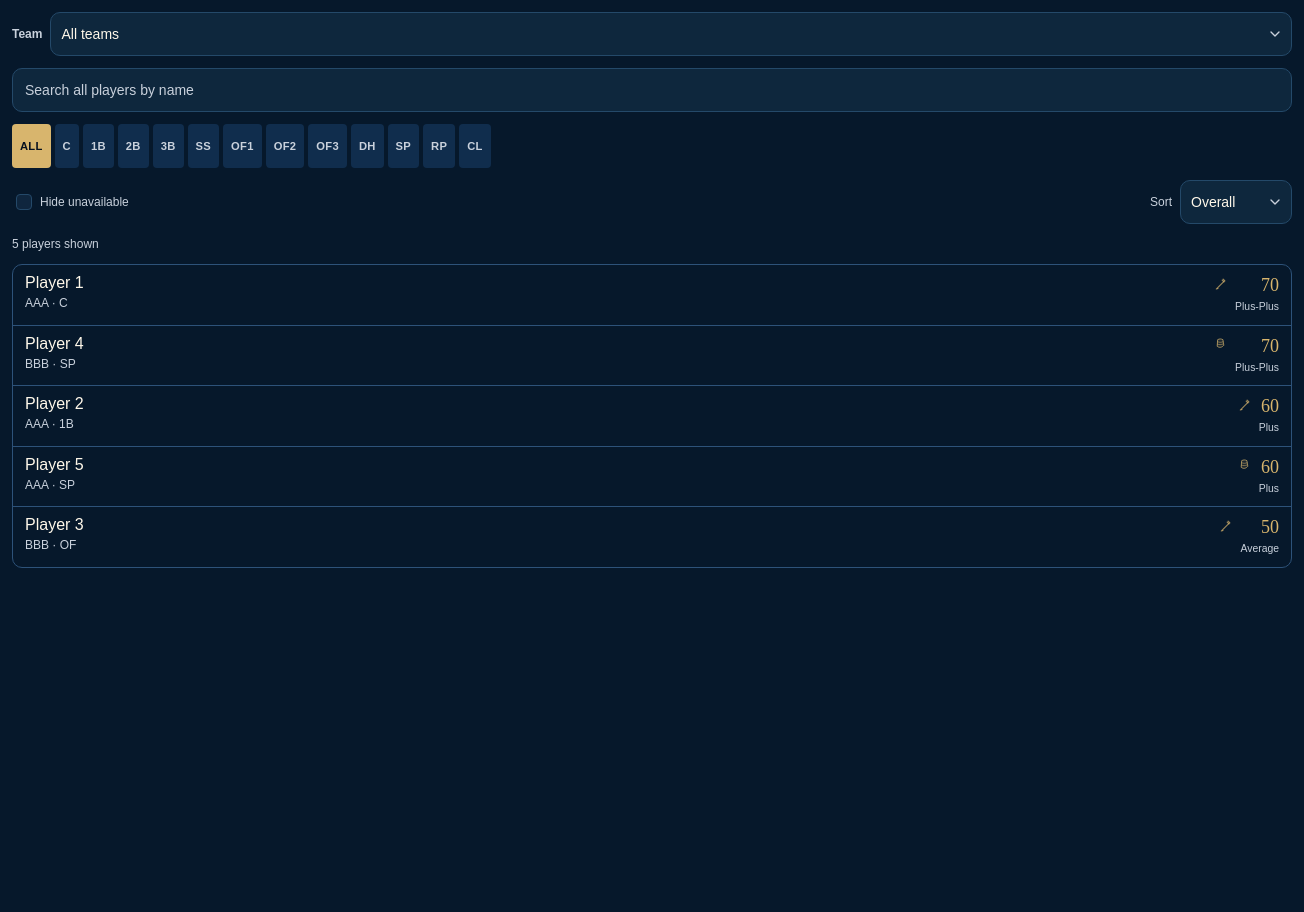
DailyPlayerBrowser › narrows to a single team when one is selected
Click the dropdown named "Filter players by team".
click(90, 34)  # box [50, 12, 1292, 56]
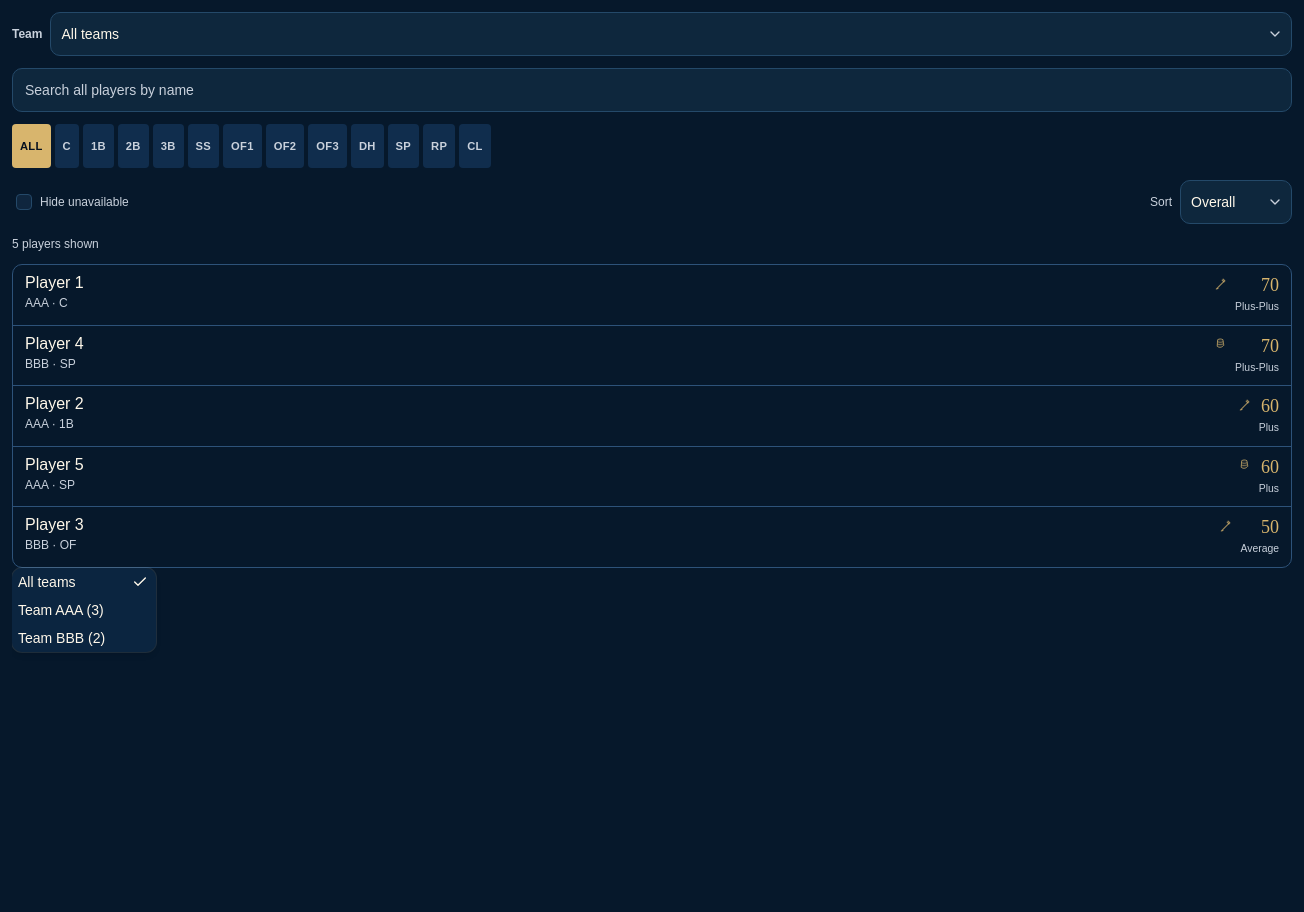
Click the option "Team AAA (3)".
click(61, 610)  # box [18, 602, 104, 618]
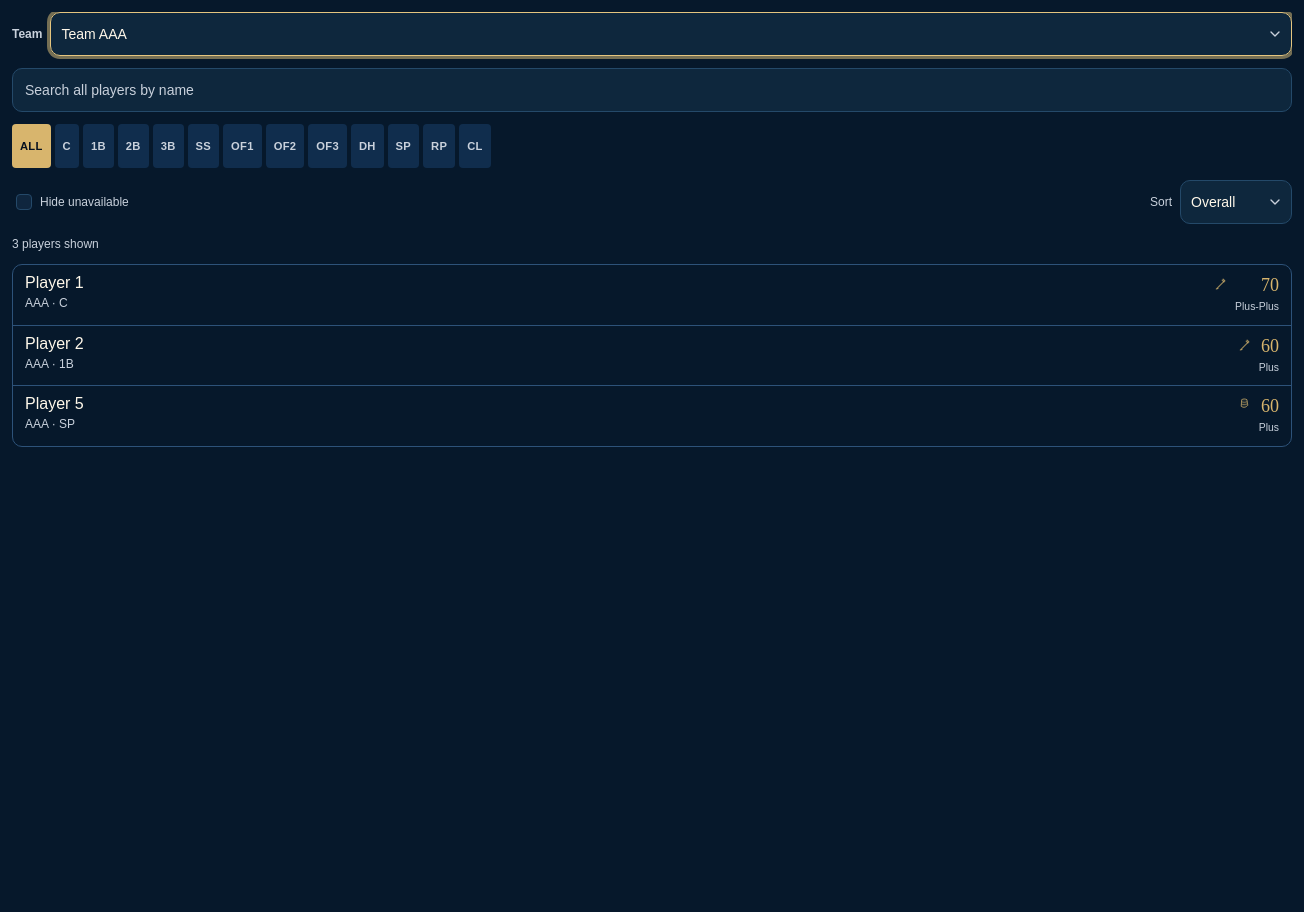
Expected: the text "3 players shown" is shown, [12, 237, 99, 251]
